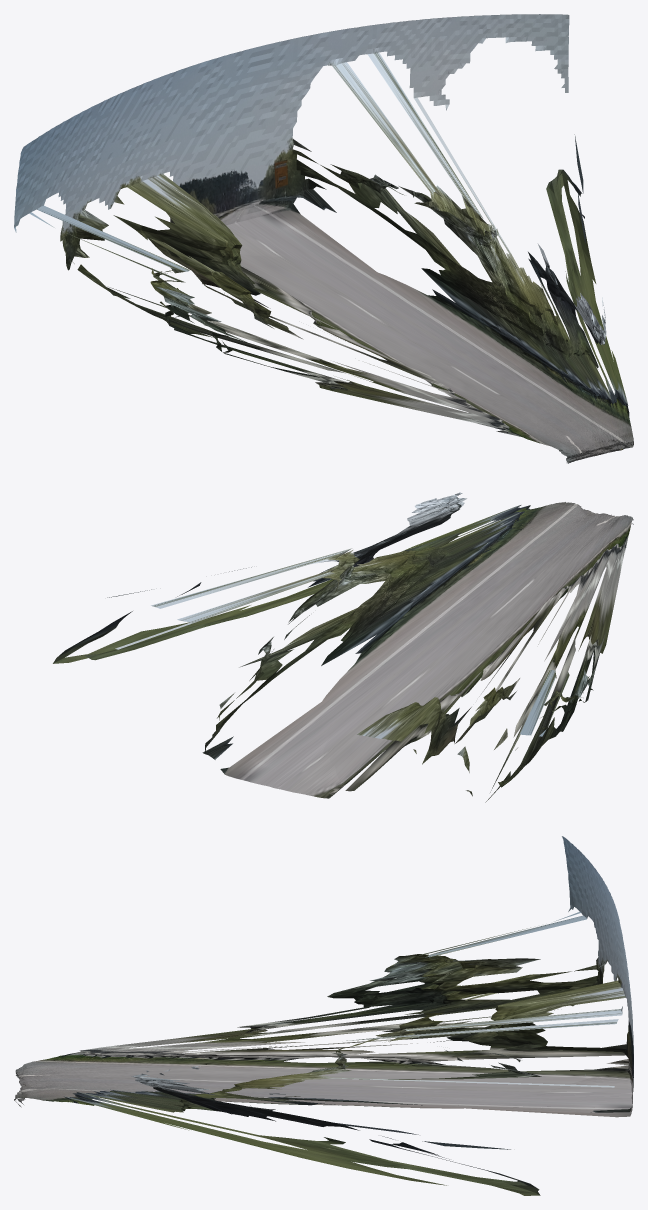
The picture shows the model from 3 angles, top to bottom: view 1: azimuth 30°, elevation 25°; view 2: azimuth 150°, elevation 25°; view 3: azimuth 270°, elevation 25°; orthographic projection. The views are drawn at different scales.
Visible parts, largest first — view 1: defaultobject; view 2: defaultobject; view 3: defaultobject.
Part boxes in pixels (x1=…): defaultobject: x1=14, y1=14, x2=633, y2=463; defaultobject: x1=53, y1=492, x2=633, y2=802; defaultobject: x1=14, y1=836, x2=633, y2=1195.
Bounding box in the file's own units: 41.05 × 12.62 × 44.47.
1 material, 1 textured.
